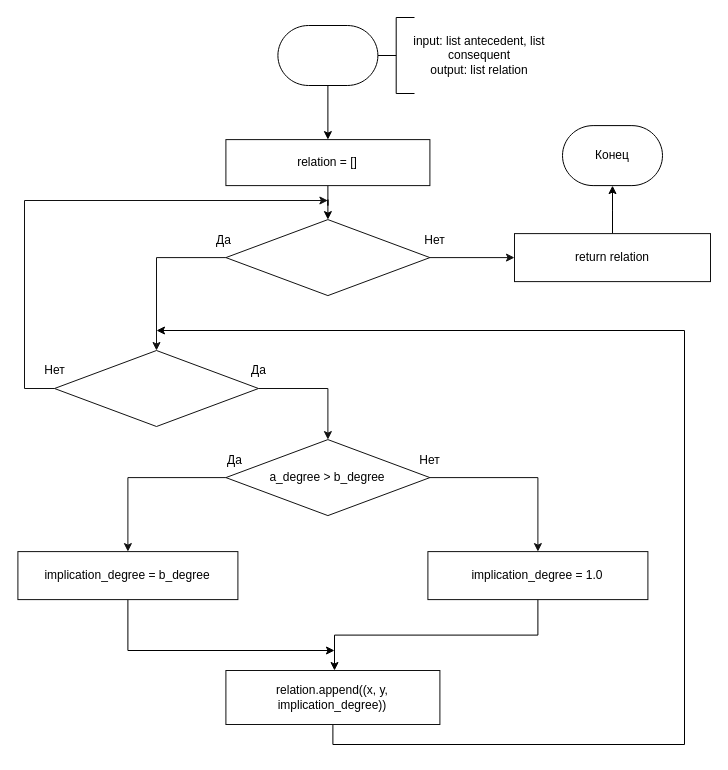
The diagram is 728 pixels wide and 770 high, and some of its shapes have lost their labels. Here are the shapes that lost their labels. From the top down, the box of each, then its label:
(277, 24, 378, 86): Начало
(225, 219, 430, 296): for x, a_degree in antecedent
(54, 350, 258, 426): for y, b_degree in consequent
